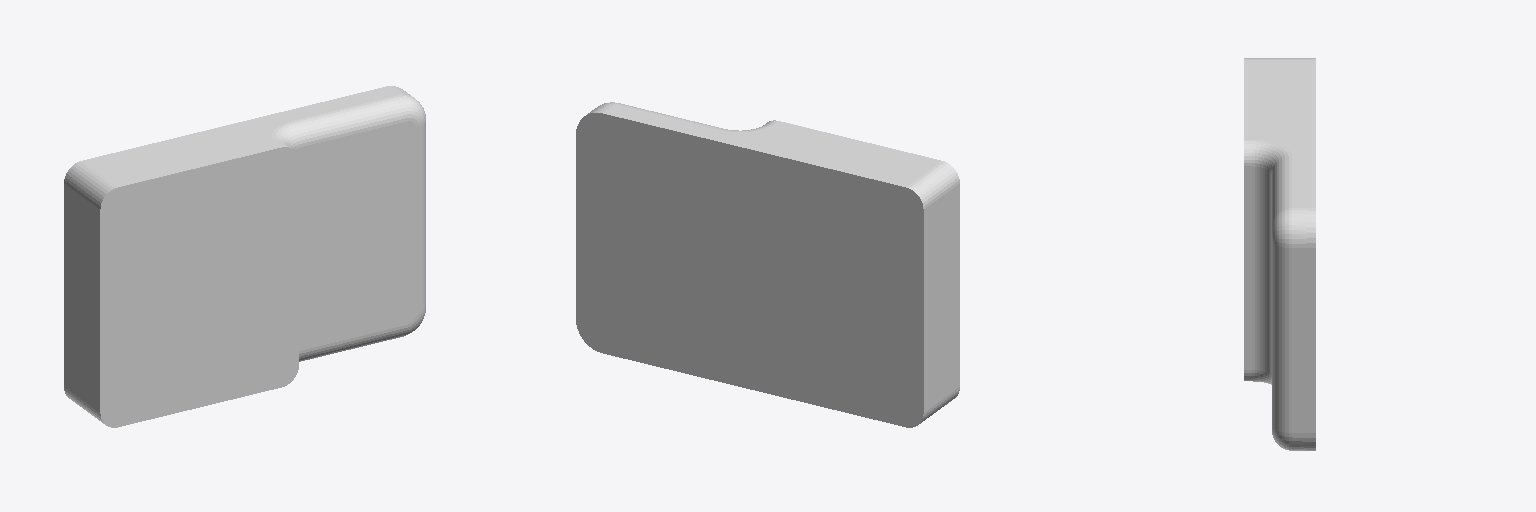
File: torso_fix.obj
3 views of the same model, side by side, from view 1: azimuth 30°, elevation 25°; view 2: azimuth 150°, elevation 25°; view 3: azimuth 270°, elevation 25° (orthographic).
Visible parts, largest first — view 1: torso_fix; view 2: torso_fix; view 3: torso_fix.
Boxes of the visible parts, x1=… form: torso_fix: x1=64, y1=86, x2=425, y2=427; torso_fix: x1=576, y1=102, x2=959, y2=427; torso_fix: x1=1244, y1=58, x2=1315, y2=450.
Size of the model in its own units: 0.397 by 0.262 by 0.072.